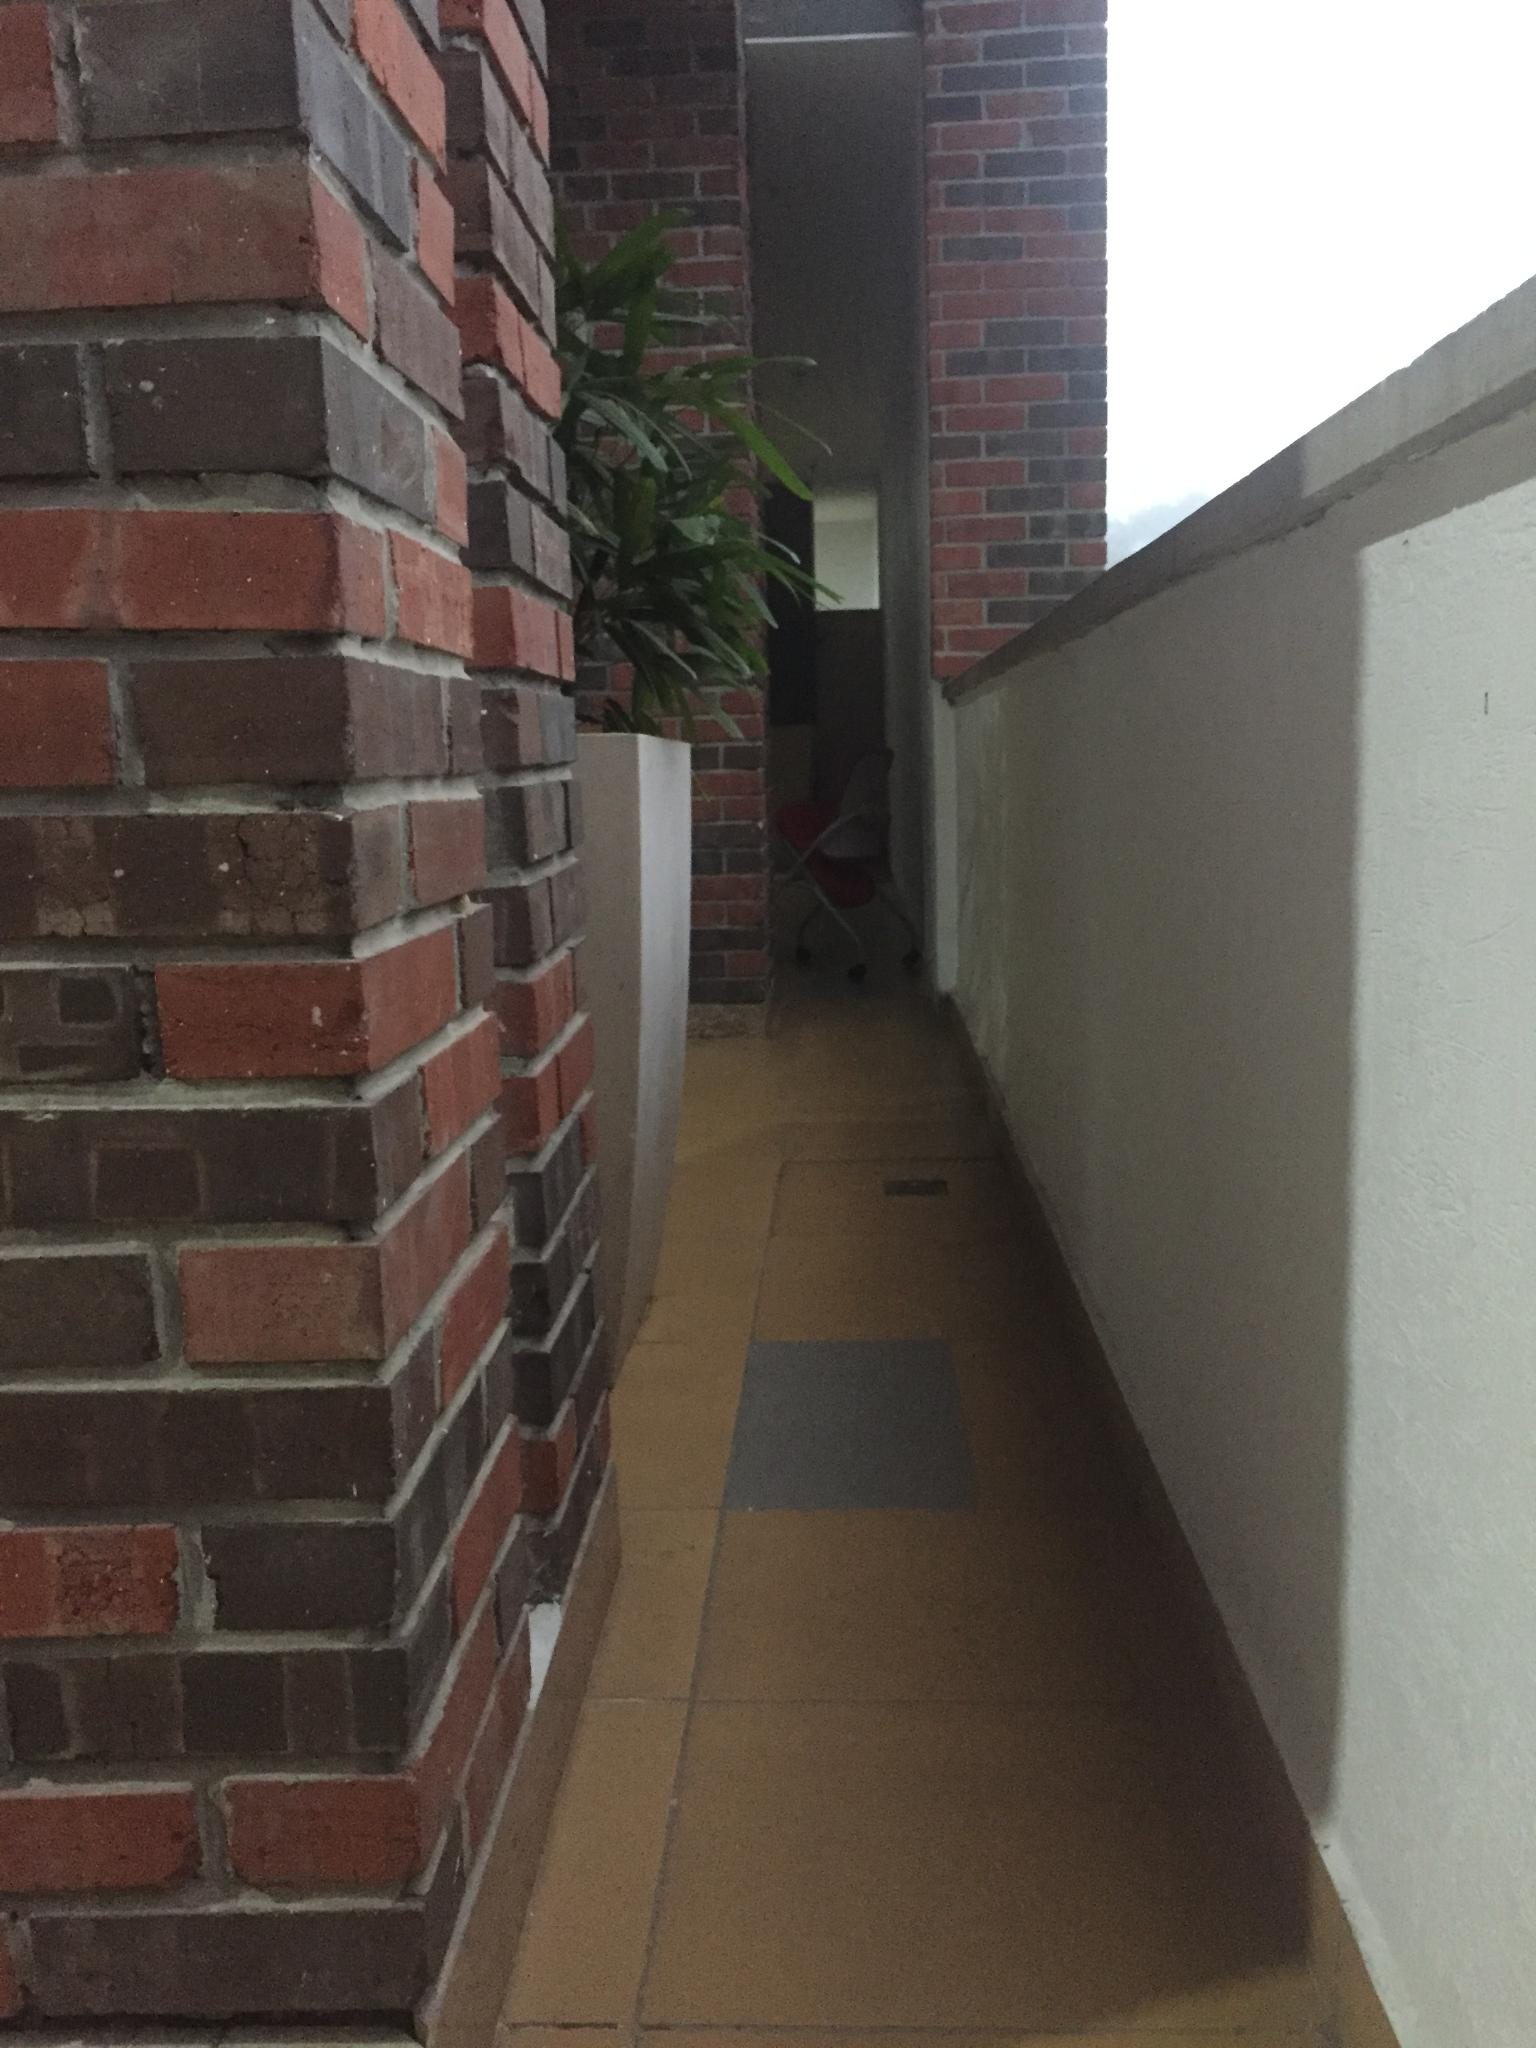chair: (773, 745, 921, 984)
